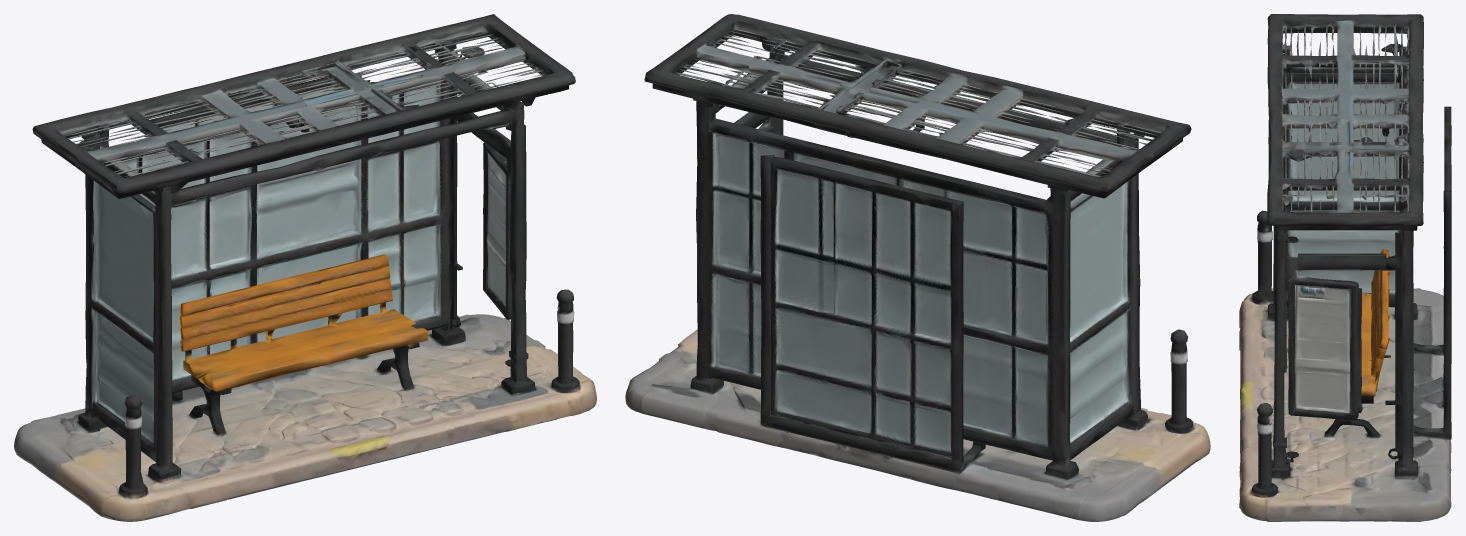
File: webtoon_neighborhood_bus_stop.glb
The picture shows the model from 3 angles, left to right: view 1: azimuth 30°, elevation 25°; view 2: azimuth 150°, elevation 25°; view 3: azimuth 270°, elevation 25°; orthographic projection. The views are drawn at different scales.
Parts seen in each view (by area): view 1: webtoon_neighborhood_bus_stop_mesh_00; view 2: webtoon_neighborhood_bus_stop_mesh_00; view 3: webtoon_neighborhood_bus_stop_mesh_00.
Boxes of the visible parts, <box> form: webtoon_neighborhood_bus_stop_mesh_00: <box>14,14,596,521</box>; webtoon_neighborhood_bus_stop_mesh_00: <box>625,14,1210,521</box>; webtoon_neighborhood_bus_stop_mesh_00: <box>1239,14,1451,521</box>.
Size of the model in its own units: 4.23 by 2.65 by 1.72.
1 material, 1 textured.
